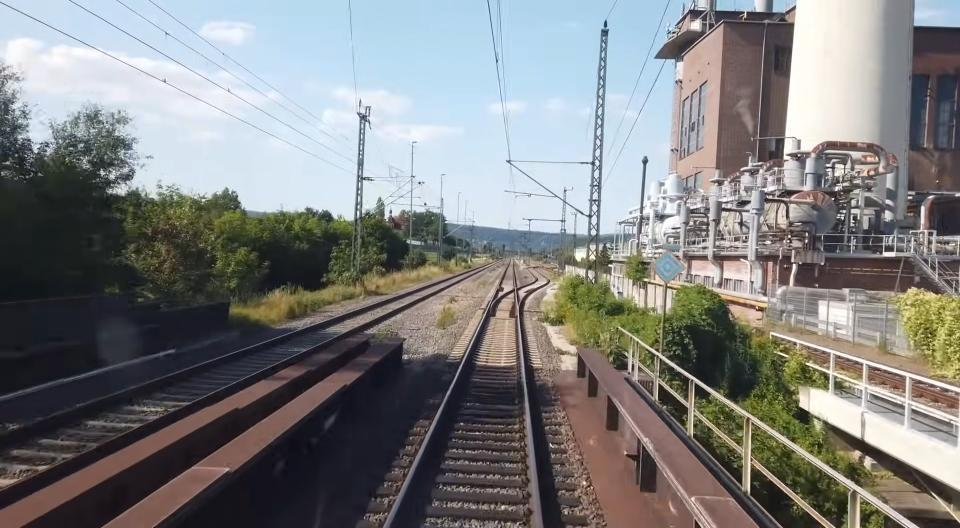Plant: (541, 299, 564, 325), (436, 305, 456, 329), (374, 328, 397, 340), (447, 296, 458, 304)
